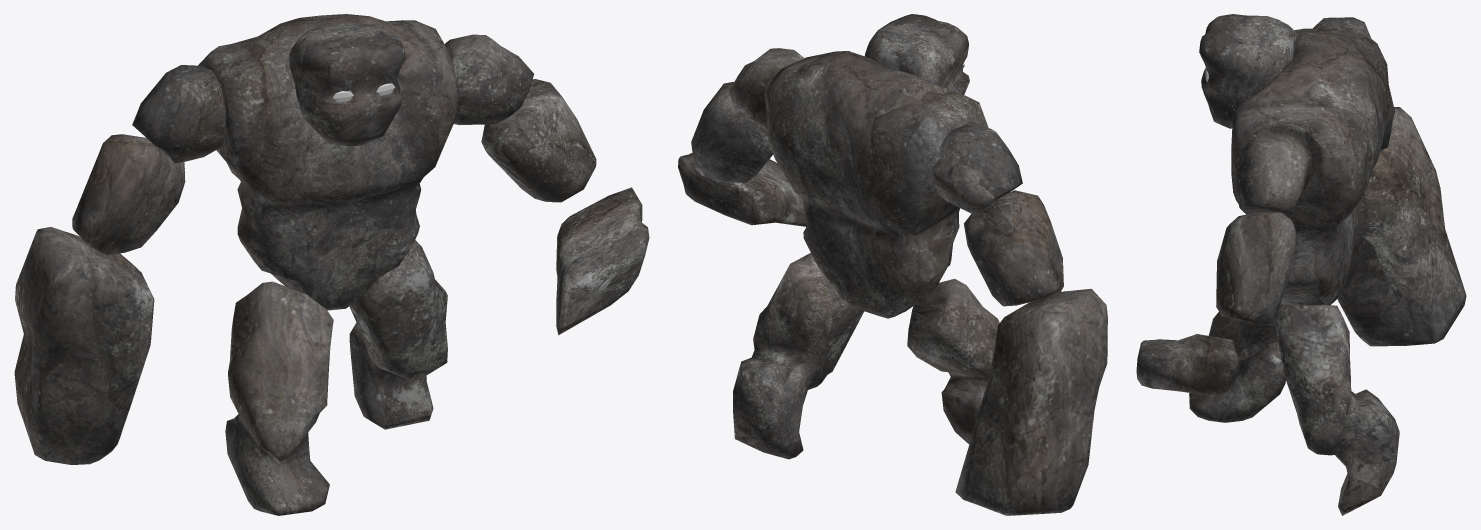
File: walk_000009.obj
3 renders of one model, left to right at view 1: azimuth 30°, elevation 25°; view 2: azimuth 150°, elevation 25°; view 3: azimuth 270°, elevation 25°, orthographic. The views are drawn at different scales.
Visible parts, largest first — view 1: hands&leg.001_ice.003, torso.001_ice.005, head.001_ice.004; view 2: hands&leg.001_ice.003, torso.001_ice.005, head.001_ice.004; view 3: hands&leg.001_ice.003, torso.001_ice.005, head.001_ice.004.
Part boxes in pixels (<box>): hands&leg.001_ice.003: <box>14,34,649,515</box>; torso.001_ice.005: <box>198,14,459,310</box>; head.001_ice.004: <box>289,23,405,146</box>; hands&leg.001_ice.003: <box>678,48,1107,515</box>; torso.001_ice.005: <box>765,51,988,318</box>; head.001_ice.004: <box>864,14,969,94</box>; hands&leg.001_ice.003: <box>1136,17,1466,515</box>; torso.001_ice.005: <box>1231,27,1389,305</box>; head.001_ice.004: <box>1199,14,1299,128</box>.
Size of the model in its own units: 11.62 by 9.48 by 6.58.
2 materials, 1 textured.
